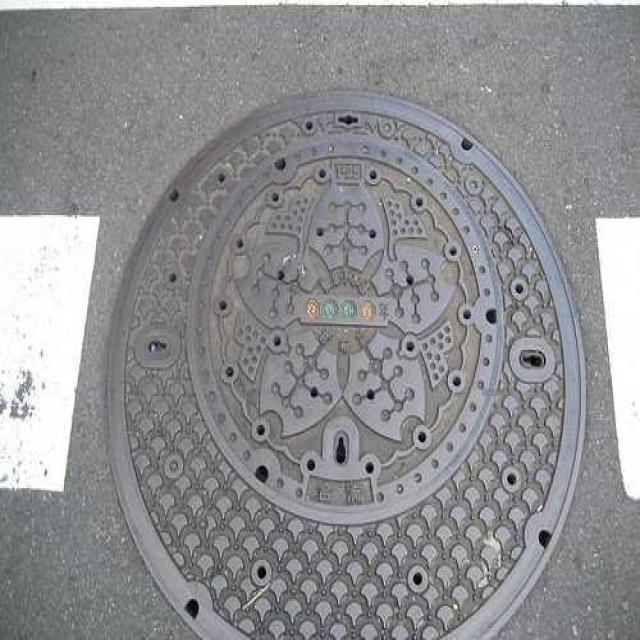manhole: (109, 92, 584, 637)
